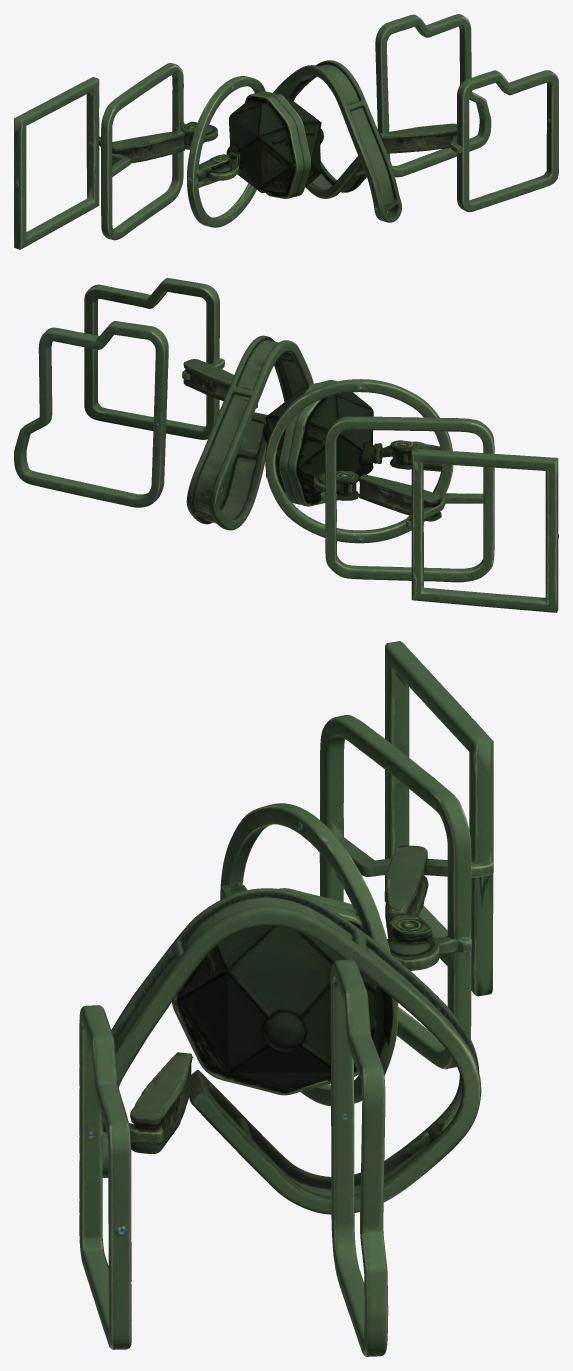
Rendered from geometric-sculpture.glb.
3 views of the same model, one above another, from view 1: azimuth 30°, elevation 25°; view 2: azimuth 150°, elevation 25°; view 3: azimuth 270°, elevation 25° (orthographic). The views are drawn at different scales.
Parts seen in each view (by area): view 1: tripo_node_4fe004f7-6686-4c4a-b83f-bfa761da123f; view 2: tripo_node_4fe004f7-6686-4c4a-b83f-bfa761da123f; view 3: tripo_node_4fe004f7-6686-4c4a-b83f-bfa761da123f.
Boxes of the visible parts, x1=… form: tripo_node_4fe004f7-6686-4c4a-b83f-bfa761da123f: x1=14, y1=14, x2=558, y2=249; tripo_node_4fe004f7-6686-4c4a-b83f-bfa761da123f: x1=14, y1=278, x2=558, y2=612; tripo_node_4fe004f7-6686-4c4a-b83f-bfa761da123f: x1=79, y1=641, x2=493, y2=1356.
Size of the model in its own units: 0.9788 by 0.3054 by 0.371.
Materials: 1 (1 with a texture image).
